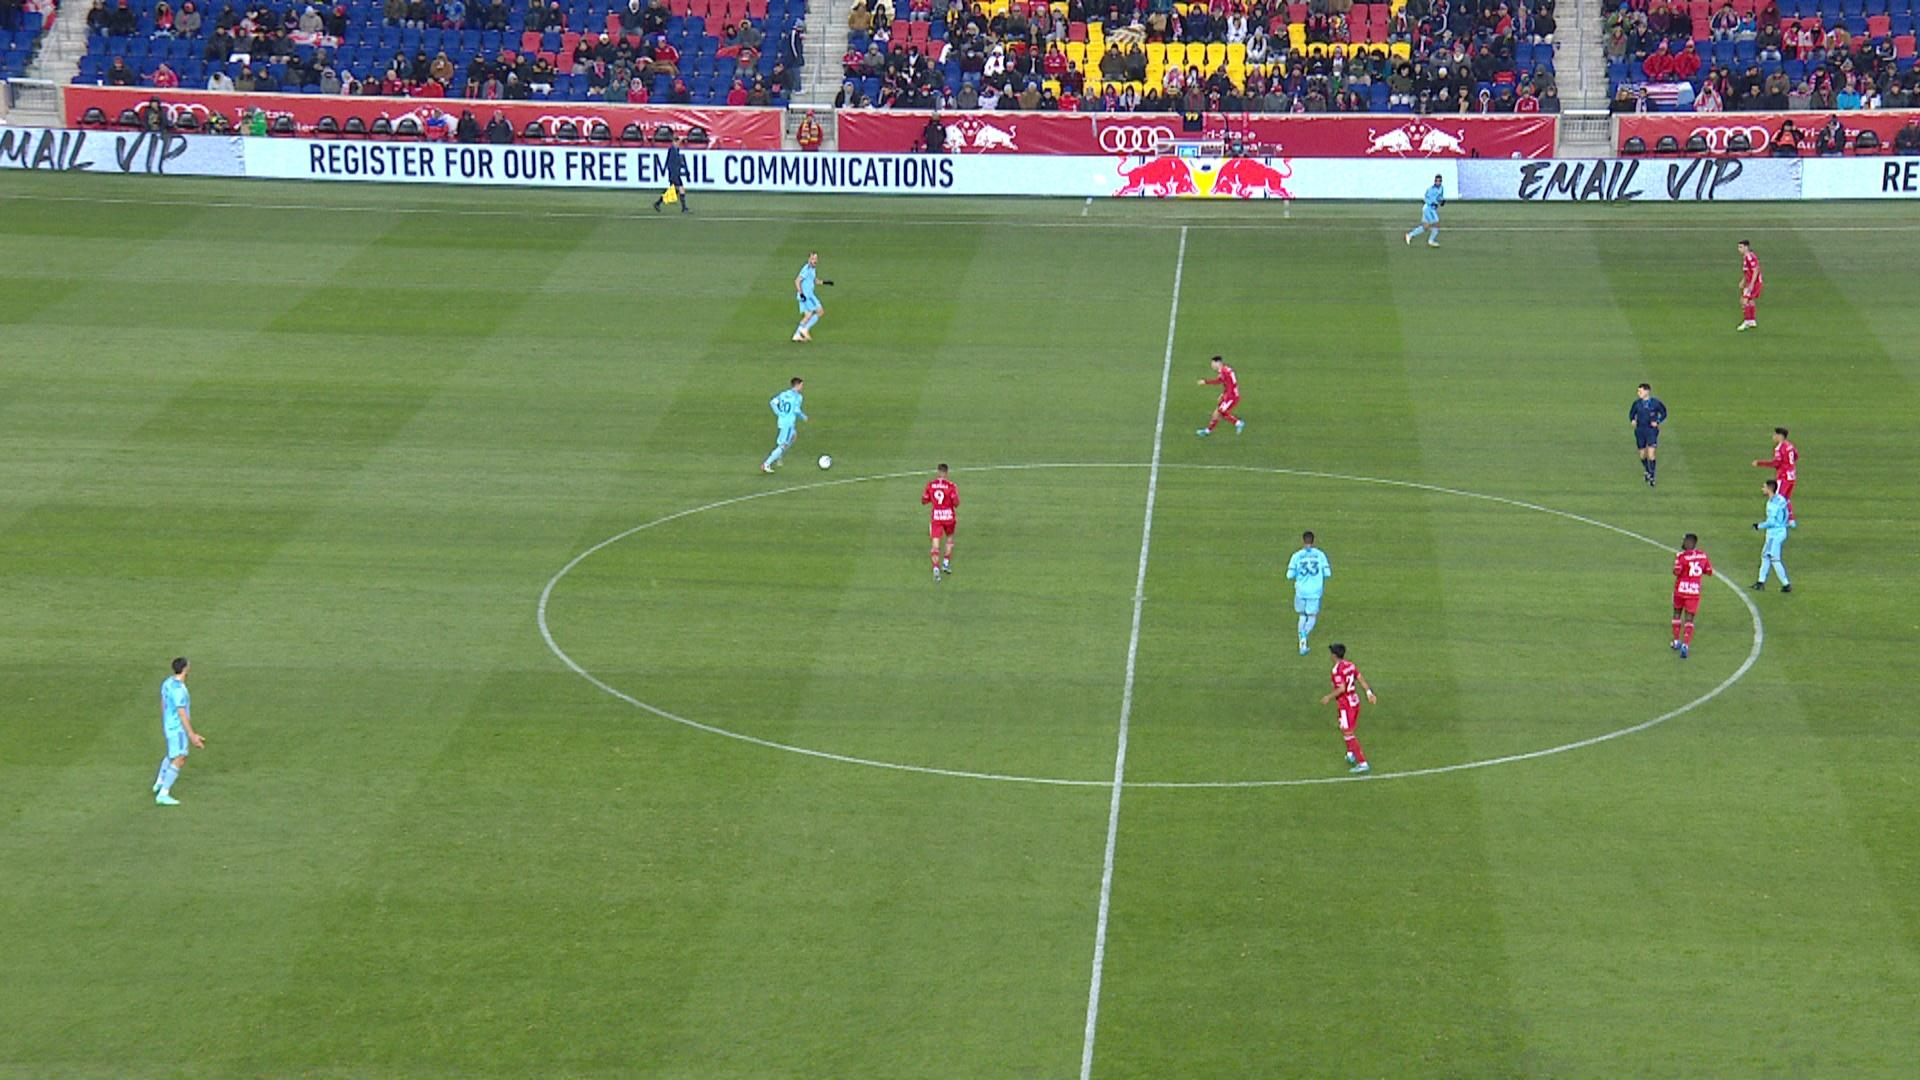football: (819, 454, 833, 471)
